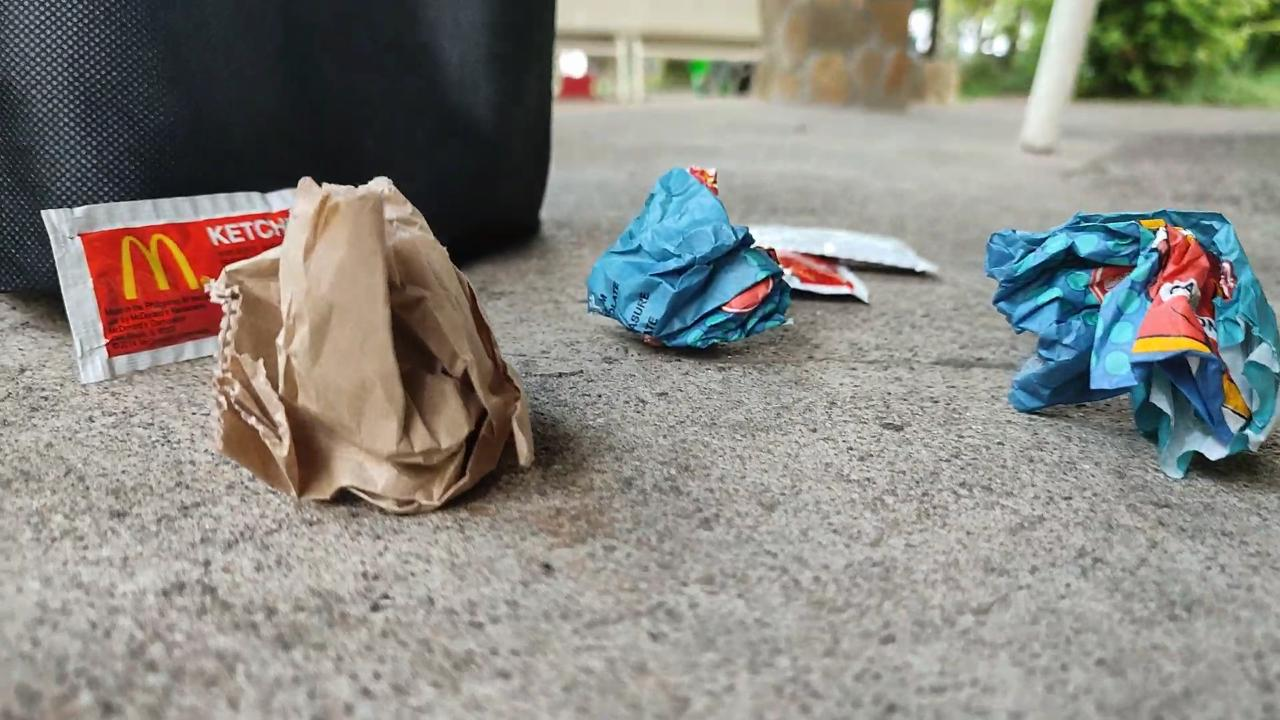Paper: (209, 155, 549, 516), (981, 195, 1280, 474), (576, 150, 794, 371)
